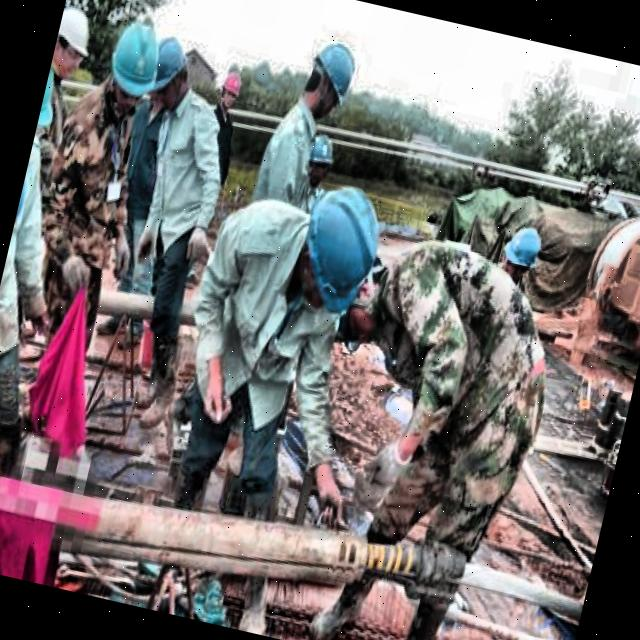helmet: (284, 172, 398, 328), (102, 8, 178, 116), (295, 29, 366, 128), (138, 29, 195, 116), (49, 0, 99, 83), (497, 220, 548, 288), (295, 131, 341, 198), (214, 58, 248, 116)
